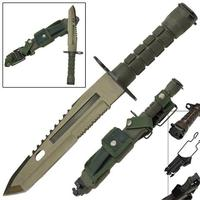knife: (2, 15, 183, 198), (62, 3, 85, 85)
